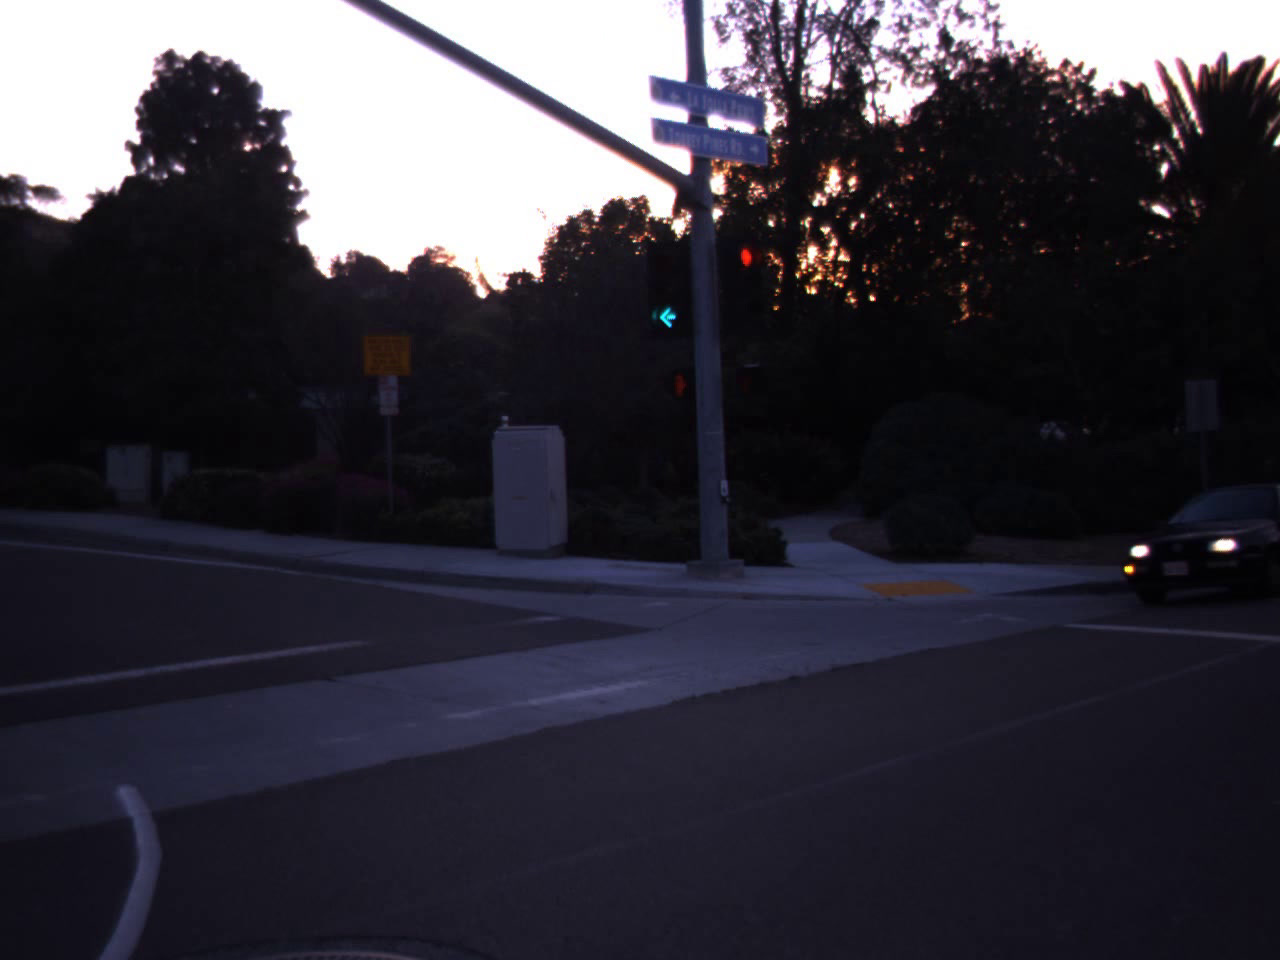go: (639, 232, 696, 337)
